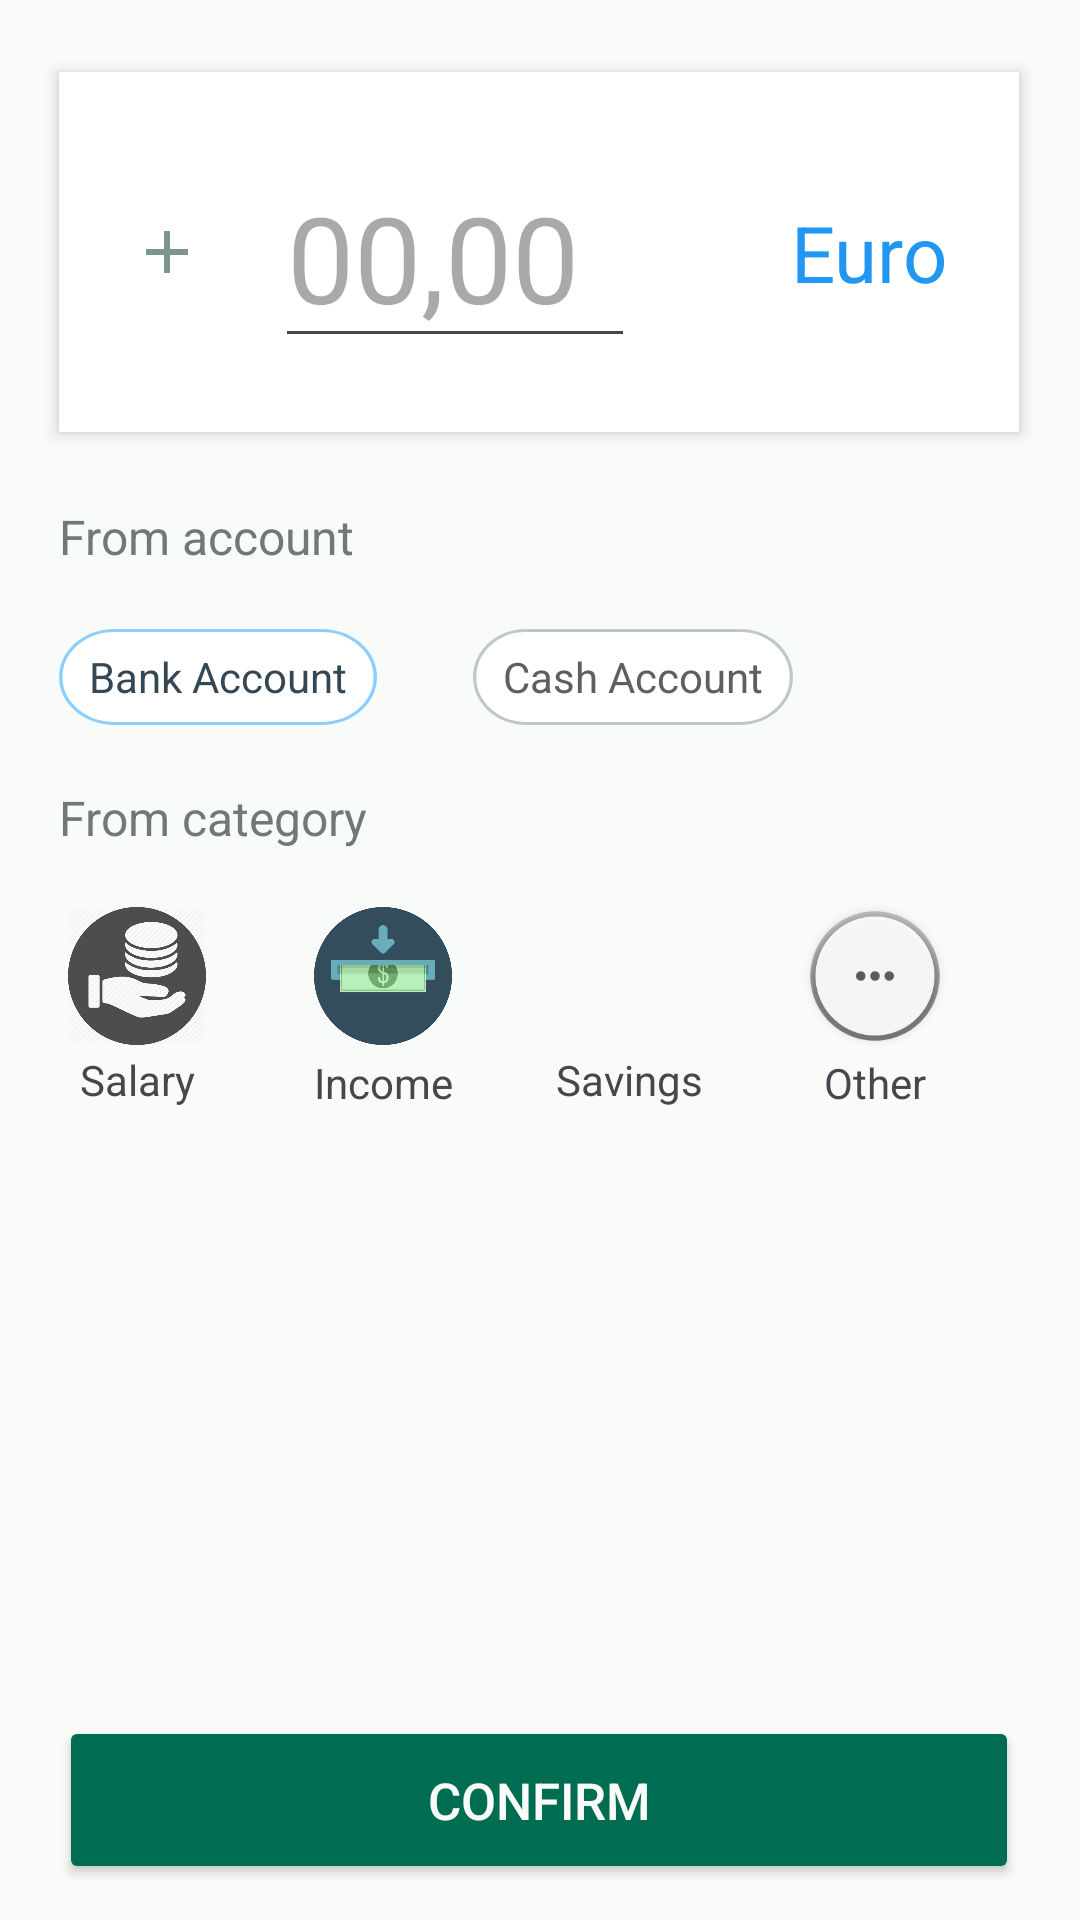

Where to tap for icons on this 1080px×1920px app screen, as (x=x, y=y):
add: (x=167, y=252)
